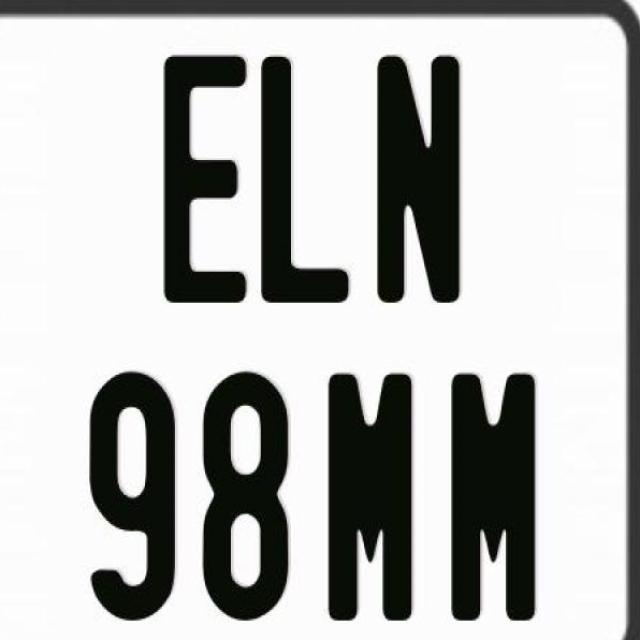license-plate: (6, 22, 628, 640)
